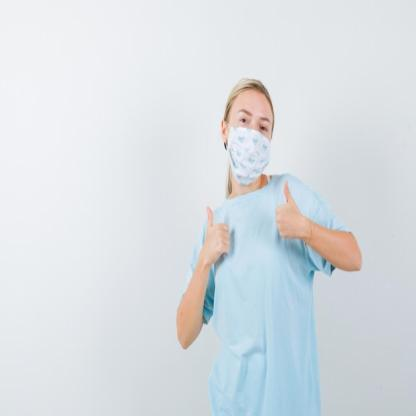thumb_up: (270, 181, 304, 240), (200, 199, 231, 263)
